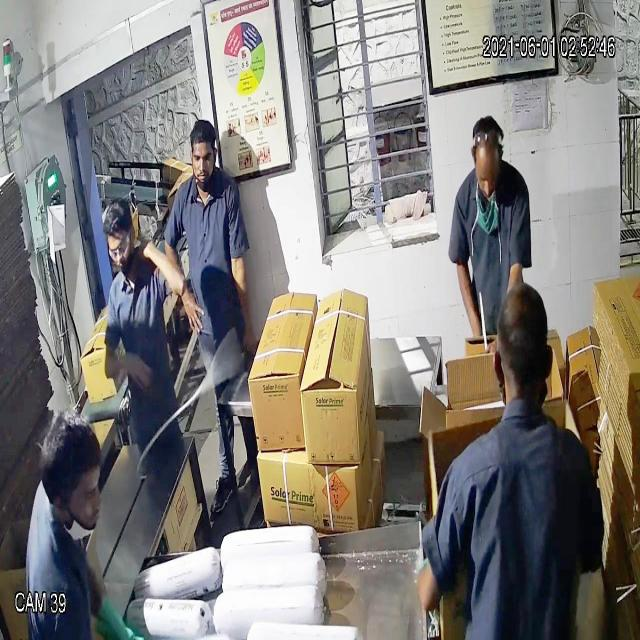glasses: (102, 228, 136, 266)
no-glass: (186, 143, 223, 172)
